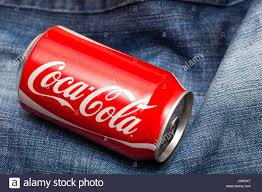coke: (23, 25, 194, 158)
